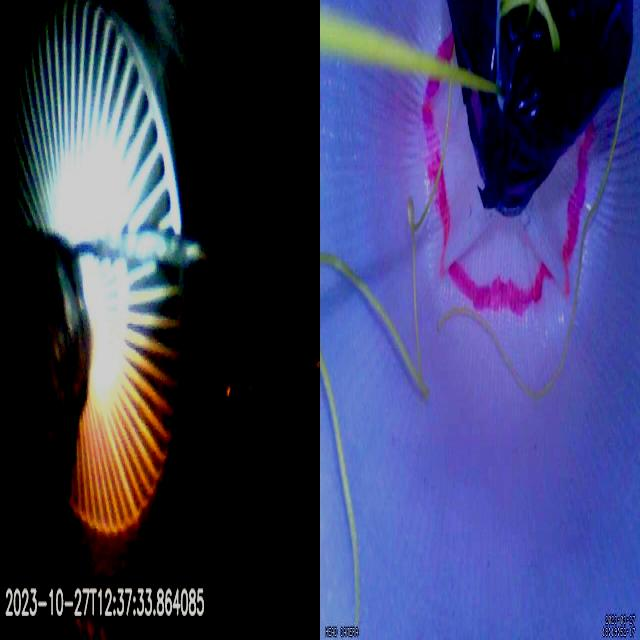red-circle: (422, 29, 596, 314)
